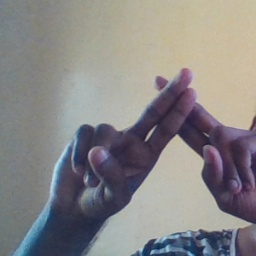F: (98, 58, 256, 176)
